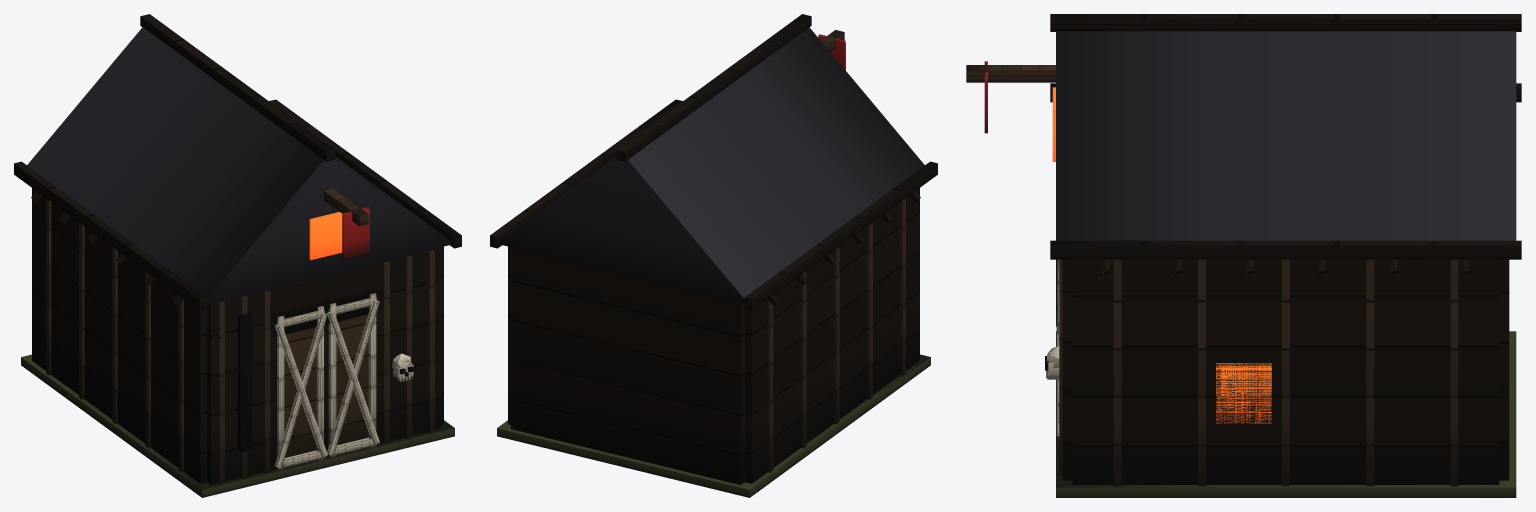
File: creepy_barn.glb
3 views of the same model, side by side, from view 1: azimuth 30°, elevation 25°; view 2: azimuth 150°, elevation 25°; view 3: azimuth 270°, elevation 25° (orthographic). The views are drawn at different scales.
Visible parts, largest first — view 1: creepy_barn; view 2: creepy_barn; view 3: creepy_barn.
Part boxes in pixels (x1,y1,x2,y2): creepy_barn: (14,14,461,497); creepy_barn: (490,14,937,497); creepy_barn: (966,14,1521,497).
Bounding box in the file's own units: 3.52 × 3.96 × 4.95.
Materials: 1 (1 with a texture image).
